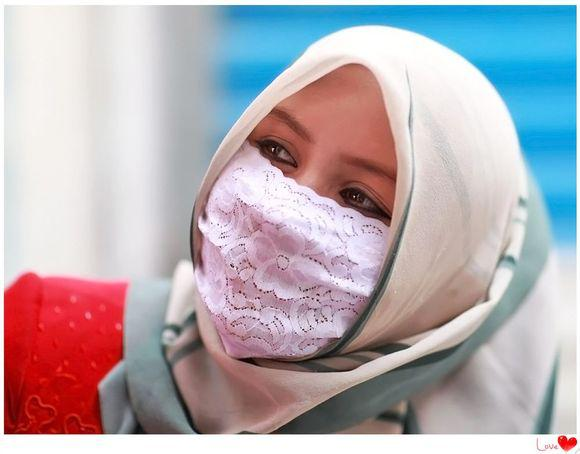WRONG: (201, 119, 414, 364)
